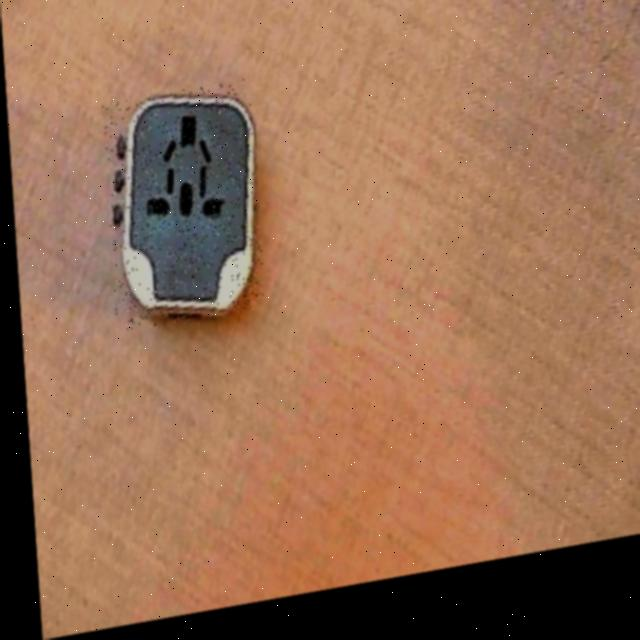adapter: (100, 86, 260, 337)
